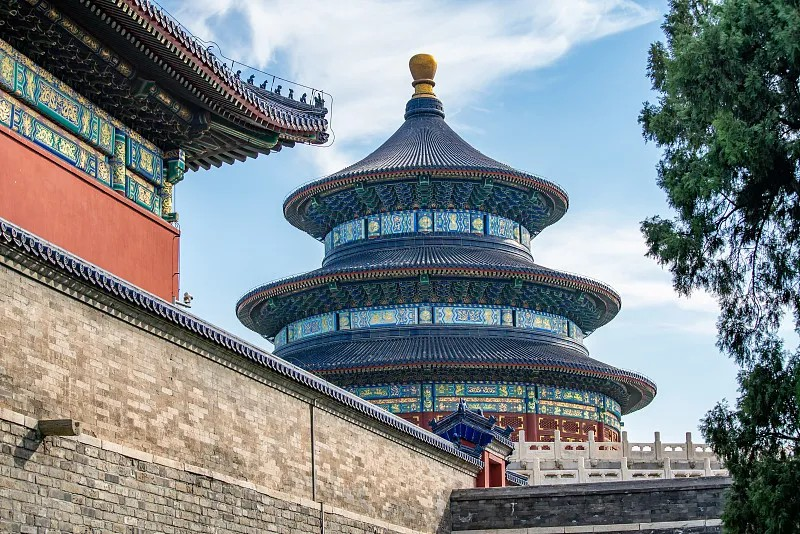Heaven: (237, 54, 657, 445)
